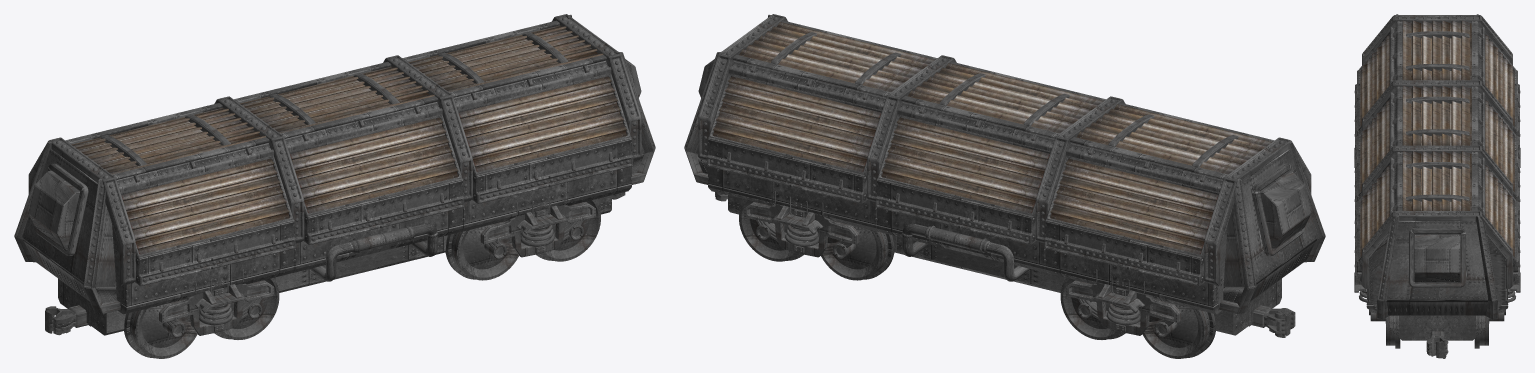
The model's file is static.glb.
3 renders of one model, left to right at view 1: azimuth 30°, elevation 25°; view 2: azimuth 150°, elevation 25°; view 3: azimuth 270°, elevation 25°, orthographic. The views are drawn at different scales.
Parts seen in each view (by area): view 1: Cube_2_4, Cube_1_2, Boole_4, Boole_6, Boole_2, Cube_1_28, Cube_1_44, Cube_1_12, Cube_2_8, Cube_2_6, Cube_17, Cube_29 (+76 smaller); view 2: Cube_2_4, Cube_1_2, Boole_4, Boole_6, Boole_2, Cube_2_8, Cube_1_28, Cube_1_44, Cube_1_12, Cube_2_6, Cube_2, Cylinder_5 (+73 smaller); view 3: Cube_1_2, Cube_2, Cube_2_8, Boole_Cube, Cube_2_7, Cube_1_28, Cube_1_12, Plane, Cube_1_44, Sweep, Cylinder_6, Cube_2_3 (+65 smaller).
Boxes of the visible parts, left/top/right/bottom form: Cube_2_4: left=58, top=249, right=294, bottom=335; Cube_1_2: left=22, top=66, right=644, bottom=302; Boole_4: left=303, top=178, right=464, bottom=244; Boole_6: left=472, top=137, right=633, bottom=203; Boole_2: left=135, top=219, right=295, bottom=286; Cube_1_28: left=234, top=61, right=442, bottom=151; Cube_1_44: left=402, top=20, right=611, bottom=110; Cube_1_12: left=65, top=103, right=273, bottom=192; Cube_2_8: left=442, top=166, right=631, bottom=253; Cube_2_6: left=274, top=208, right=463, bottom=292; Cube_17: left=240, top=66, right=428, bottom=131; Cube_29: left=408, top=25, right=597, bottom=90; Cube_2_4: left=1045, top=249, right=1281, bottom=335; Cube_1_2: left=695, top=66, right=1317, bottom=302; Boole_4: left=875, top=178, right=1036, bottom=244; Boole_6: left=706, top=137, right=867, bottom=203; Boole_2: left=1044, top=219, right=1204, bottom=286; Cube_2_8: left=708, top=166, right=897, bottom=253; Cube_1_28: left=897, top=61, right=1105, bottom=151; Cube_1_44: left=728, top=20, right=937, bottom=110; Cube_1_12: left=1066, top=103, right=1274, bottom=192; Cube_2_6: left=876, top=208, right=1065, bottom=292; Cube_2: left=698, top=59, right=1311, bottom=248; Cylinder_5: left=817, top=224, right=894, bottom=280; Cube_1_2: left=1386, top=27, right=1488, bottom=315; Cube_2: left=1414, top=234, right=1460, bottom=282; Cube_2_8: left=1367, top=289, right=1507, bottom=340; Boole_Cube: left=1377, top=14, right=1497, bottom=301; Cube_2_7: left=1361, top=211, right=1513, bottom=288; Cube_1_28: left=1390, top=86, right=1484, bottom=149; Cube_1_12: left=1390, top=21, right=1484, bottom=83; Plane: left=1368, top=236, right=1506, bottom=307; Cube_1_44: left=1390, top=152, right=1484, bottom=214; Sweep: left=1409, top=228, right=1465, bottom=287; Cylinder_6: left=1385, top=315, right=1489, bottom=348; Cube_2_3: left=1362, top=81, right=1512, bottom=130.
Bounding box in the file's own units: 12.32 × 3.91 × 3.82.
Materials: 2 (2 with a texture image).
